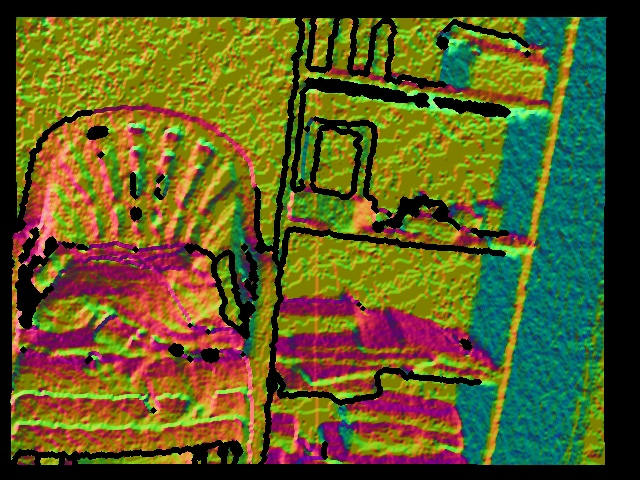station: (291, 114, 379, 238)
